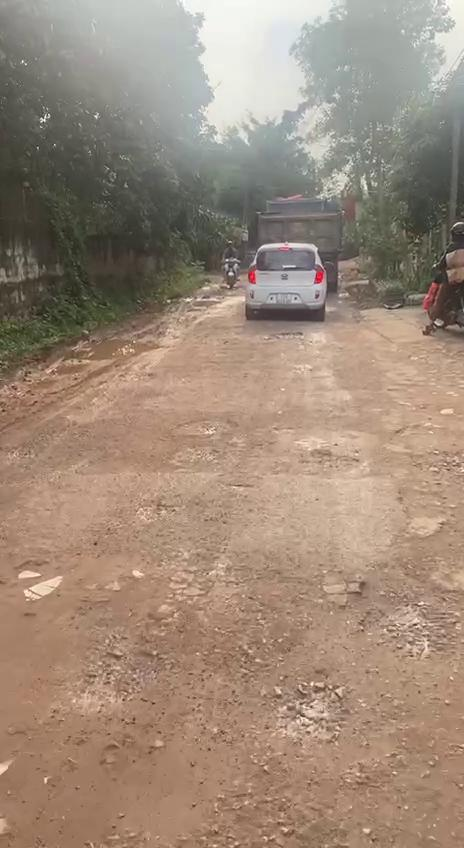pothole: (382, 427, 464, 576), (356, 576, 464, 660), (70, 617, 163, 702), (271, 665, 356, 753), (172, 414, 240, 437), (309, 446, 364, 474), (132, 501, 180, 525), (274, 330, 305, 340)
